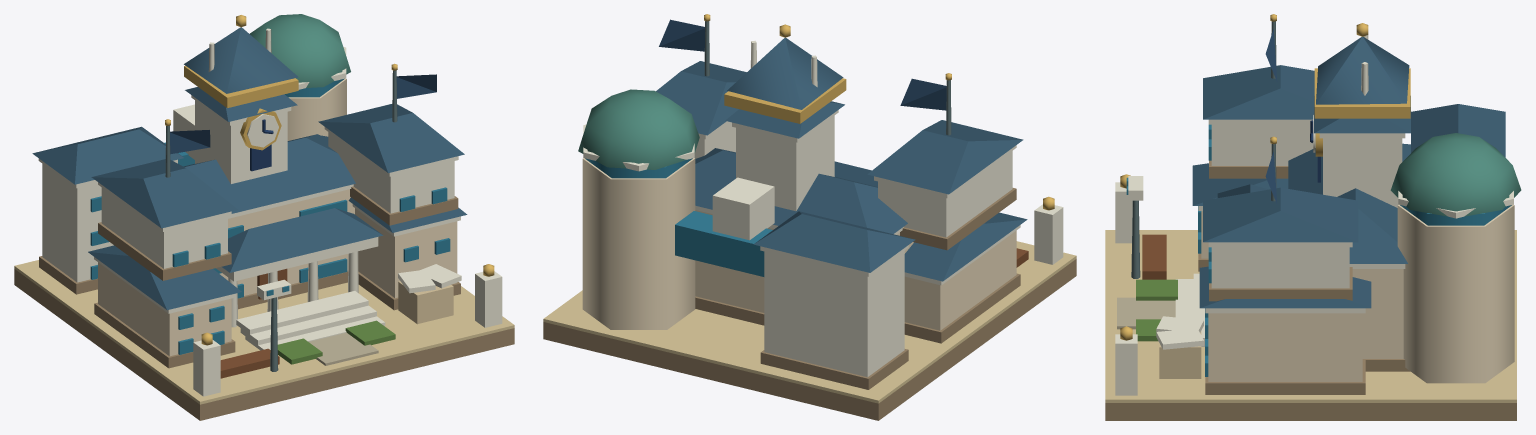
Rendered from university-lv5.glb.
The picture shows the model from 3 angles, left to right: view 1: azimuth 30°, elevation 25°; view 2: azimuth 150°, elevation 25°; view 3: azimuth 270°, elevation 25°; orthographic projection. The views are drawn at different scales.
Visible parts, largest first — view 1: foundation_sand, upper_academy_roof_roof, upper_academy_white, foundation_stoneDark, lecture_hall_roof_roof, research_hall_white, portico_pediment_roof, library_wing_cream, entrance_steps_white, observatory_dome_copper, research_hall_roof_roof, science_wing_cream (+36 smaller); view 2: observatory_cream, research_hall_white, foundation_sand, upper_academy_roof_roof, foundation_stoneDark, observatory_dome_copper, upper_academy_white, clock_tower_white, lecture_hall_roof_roof, research_hall_roof_roof, library_wing_cream, tower_cap_roof (+15 smaller); view 3: observatory_cream, foundation_sand, upper_academy_roof_roof, upper_academy_white, science_wing_cream, observatory_dome_copper, foundation_stoneDark, clock_tower_white, tower_cap_roof, lecture_hall_roof_roof, lecture_hall_cream, research_hall_roof_roof (+20 smaller).
Part boxes in pixels (<box>): foundation_sand: <box>14,260,514,404</box>; upper_academy_roof_roof: <box>91,104,464,228</box>; upper_academy_white: <box>98,127,458,268</box>; foundation_stoneDark: <box>14,269,514,420</box>; lecture_hall_roof_roof: <box>184,134,355,213</box>; research_hall_white: <box>38,158,177,282</box>; portico_pediment_roof: <box>222,208,383,272</box>; library_wing_cream: <box>98,262,231,356</box>; entrance_steps_white: <box>236,291,385,350</box>; observatory_dome_copper: <box>250,14,350,87</box>; research_hall_roof_roof: <box>32,126,183,184</box>; science_wing_cream: <box>355,208,457,298</box>; observatory_cream: <box>582,158,695,329</box>; research_hall_white: <box>760,245,908,377</box>; foundation_sand: <box>543,241,1076,403</box>; upper_academy_roof_roof: <box>656,61,1023,194</box>; foundation_stoneDark: <box>543,259,1076,420</box>; observatory_dome_copper: <box>578,89,699,169</box>; upper_academy_white: <box>694,121,1016,237</box>; clock_tower_white: <box>732,110,838,211</box>; lecture_hall_roof_roof: <box>695,148,907,234</box>; research_hall_roof_roof: <box>753,211,915,272</box>; library_wing_cream: <box>904,230,1016,330</box>; tower_cap_roof: <box>727,37,843,109</box>; observatory_cream: <box>1397,204,1514,383</box>; foundation_sand: <box>1105,230,1516,402</box>; upper_academy_roof_roof: <box>1203,65,1358,242</box>; upper_academy_white: <box>1208,119,1352,288</box>; science_wing_cream: <box>1208,313,1362,381</box>; observatory_dome_copper: <box>1390,133,1521,216</box>; foundation_stoneDark: <box>1105,403,1516,420</box>; clock_tower_white: <box>1319,133,1405,207</box>; tower_cap_roof: <box>1316,36,1409,104</box>; lecture_hall_roof_roof: <box>1288,143,1410,263</box>; lecture_hall_cream: <box>1352,269,1403,358</box>; research_hall_roof_roof: <box>1411,104,1505,157</box>.
Bounding box in the file's own units: 0.9663 × 0.8303 × 1.
